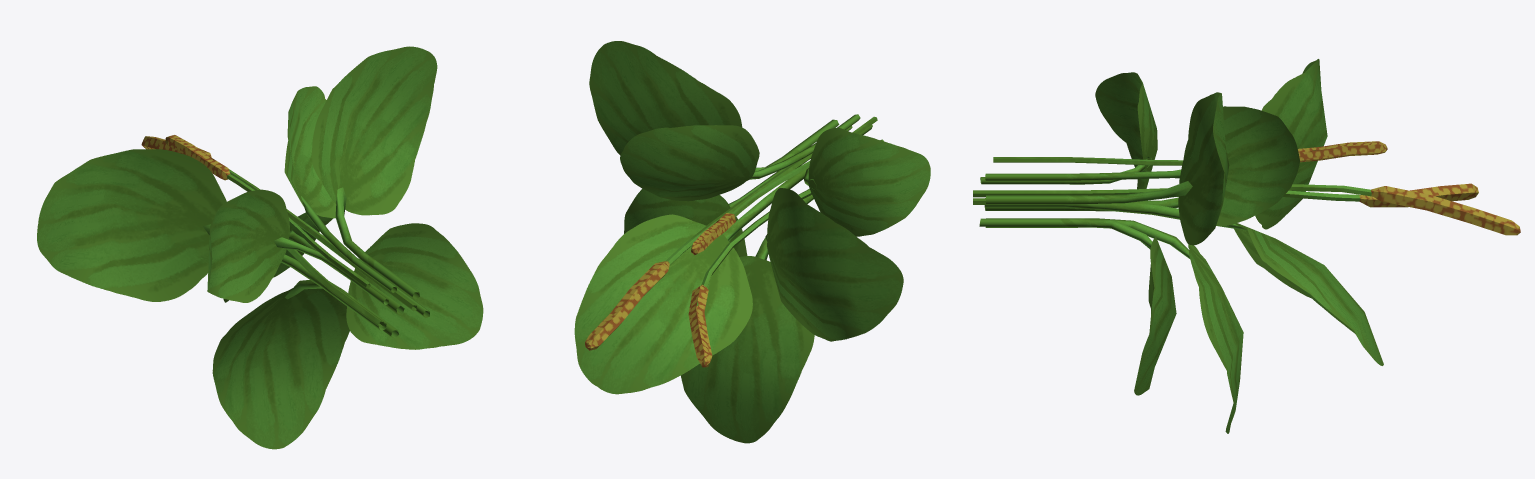
Rendered from Weegbree xratates.fbx.
The picture shows the model from 3 angles, left to right: view 1: azimuth 30°, elevation 25°; view 2: azimuth 150°, elevation 25°; view 3: azimuth 270°, elevation 25°; orthographic projection. The views are drawn at different scales.
Parts seen in each view (by area): view 1: lead and stem; view 2: lead and stem; view 3: lead and stem.
Part boxes in pixels (x1,y1,x2,y2): lead and stem: [37, 46, 483, 449]; lead and stem: [574, 41, 930, 443]; lead and stem: [973, 59, 1520, 433].
Size of the model in its own units: 53.09 by 51.34 by 60.34.
